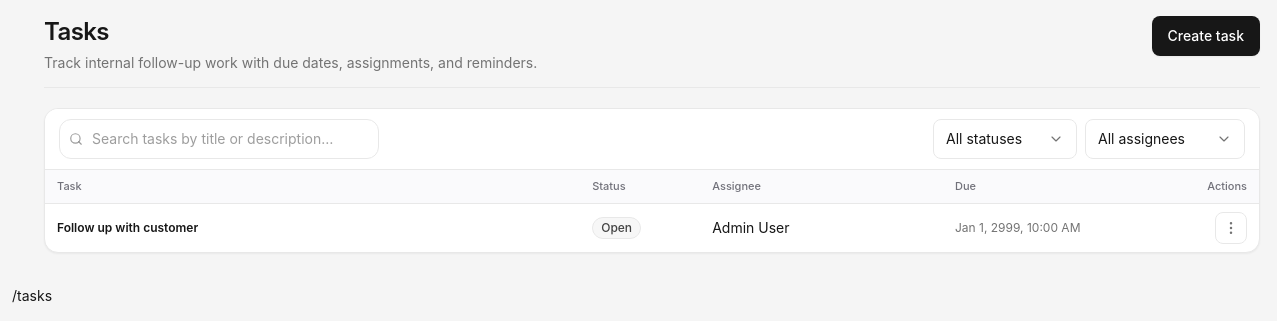
Test: tasks workspace › passes the status filter into the query and URL
Note: status select is the first combobox in the toolbar
Click the dropdown labelled "All statuses" at (1005, 139), box [933,119,1077,159]
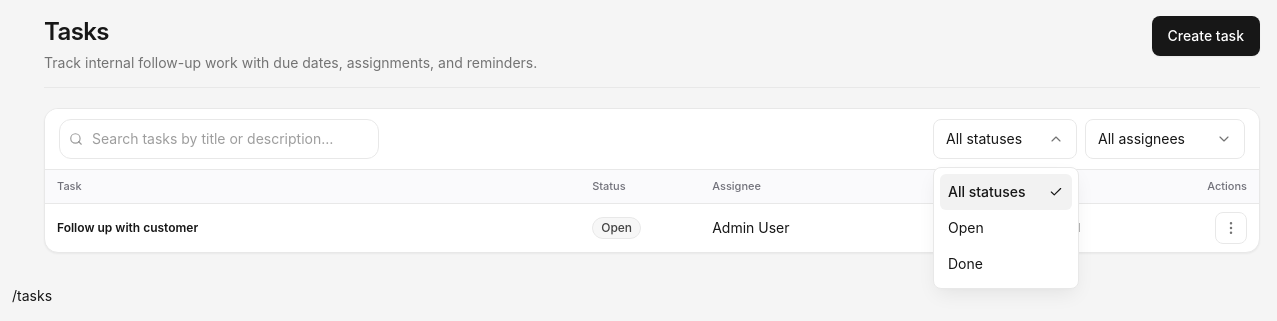
Click the option "Done" at (965, 264), box [948,255,983,272]
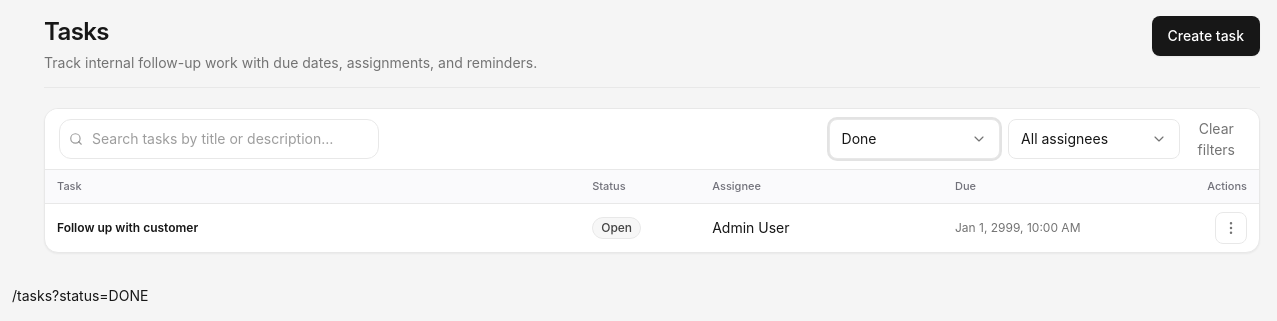
Expected: the text with test id "location" shows "status=DONE", [12,287,148,304]
